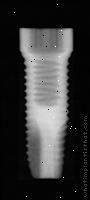Neoss: (14, 28, 75, 181)
